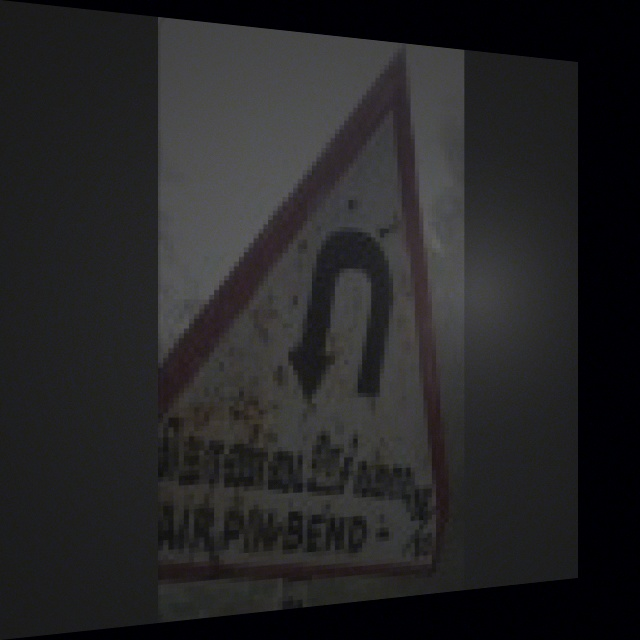Left_Hair_Pin_Bend: (255, 202, 430, 424)
